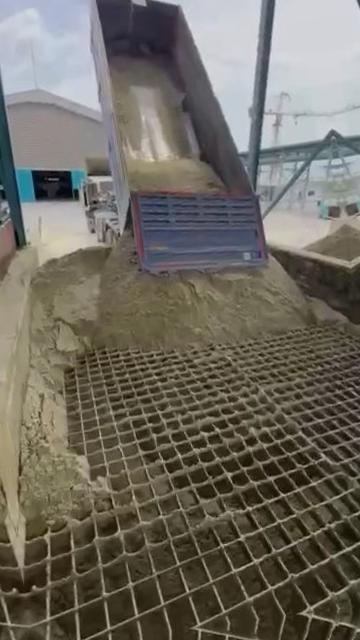sand: (21, 235, 308, 523), (110, 56, 225, 191), (309, 224, 350, 260), (310, 298, 349, 326)
